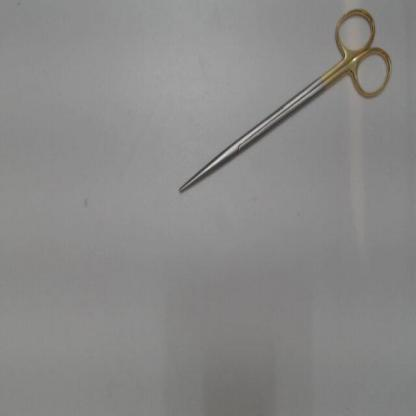7 Metzenbaum Scissors: (179, 7, 394, 196)
